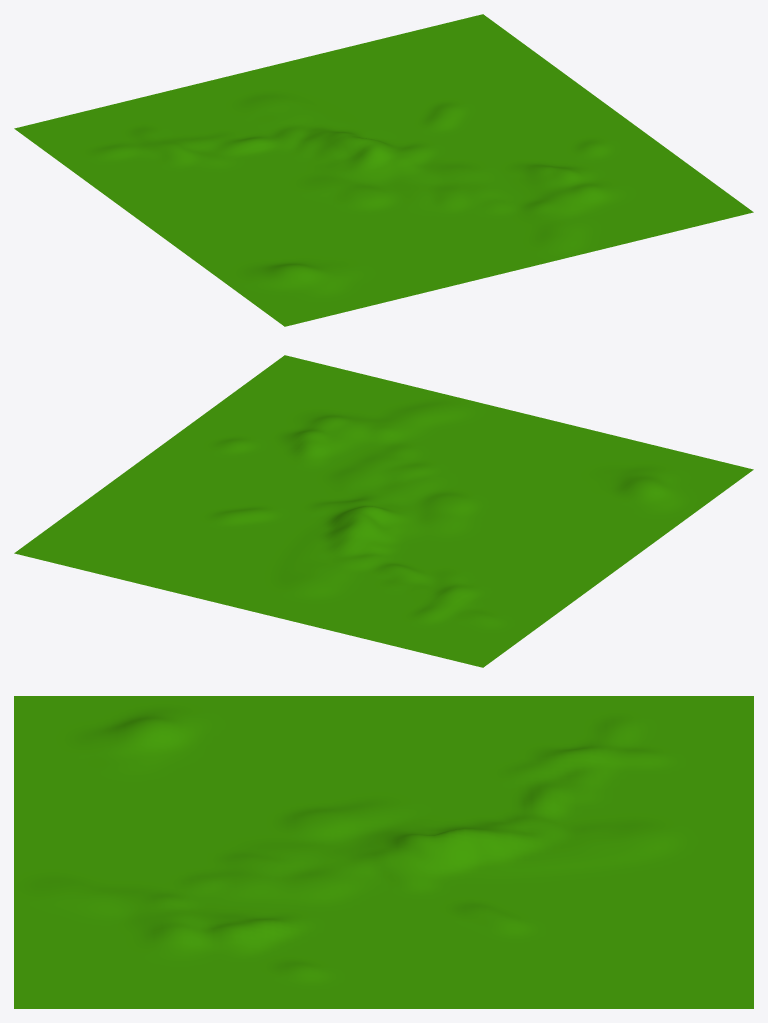
The model's file is ground.glb.
3 views of the same model, one above another, from view 1: azimuth 30°, elevation 25°; view 2: azimuth 150°, elevation 25°; view 3: azimuth 270°, elevation 25° (orthographic). The views are drawn at different scales.
Parts seen in each view (by area): view 1: ground; view 2: ground; view 3: ground.
Boxes of the visible parts, x1,y1,x2,y2 form: ground: (14,14,753,326); ground: (14,355,753,667); ground: (14,696,753,1008).
Size of the model in its own units: 1 by 0.0273 by 1.
